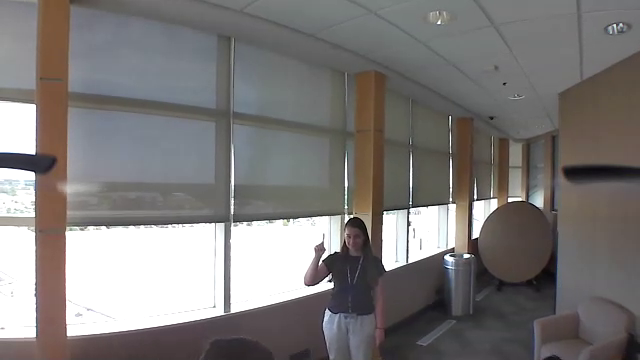up: (312, 231, 329, 263)
